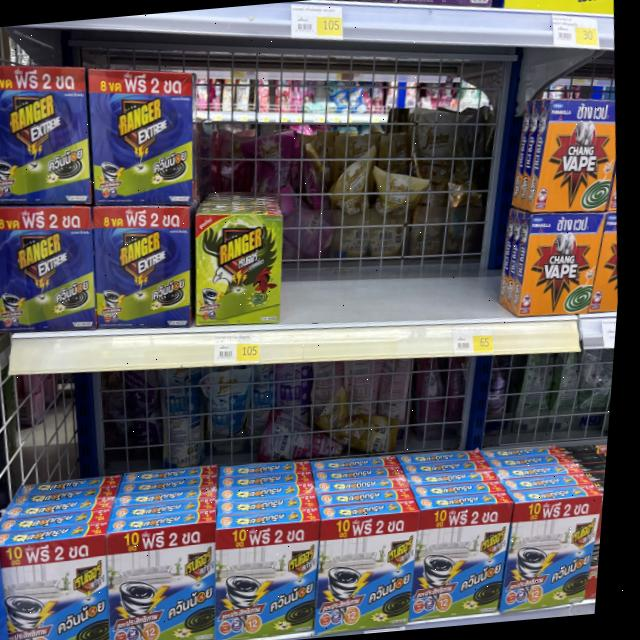empty_shelf: (0, 353, 599, 543), (284, 75, 534, 323), (194, 74, 283, 210)
